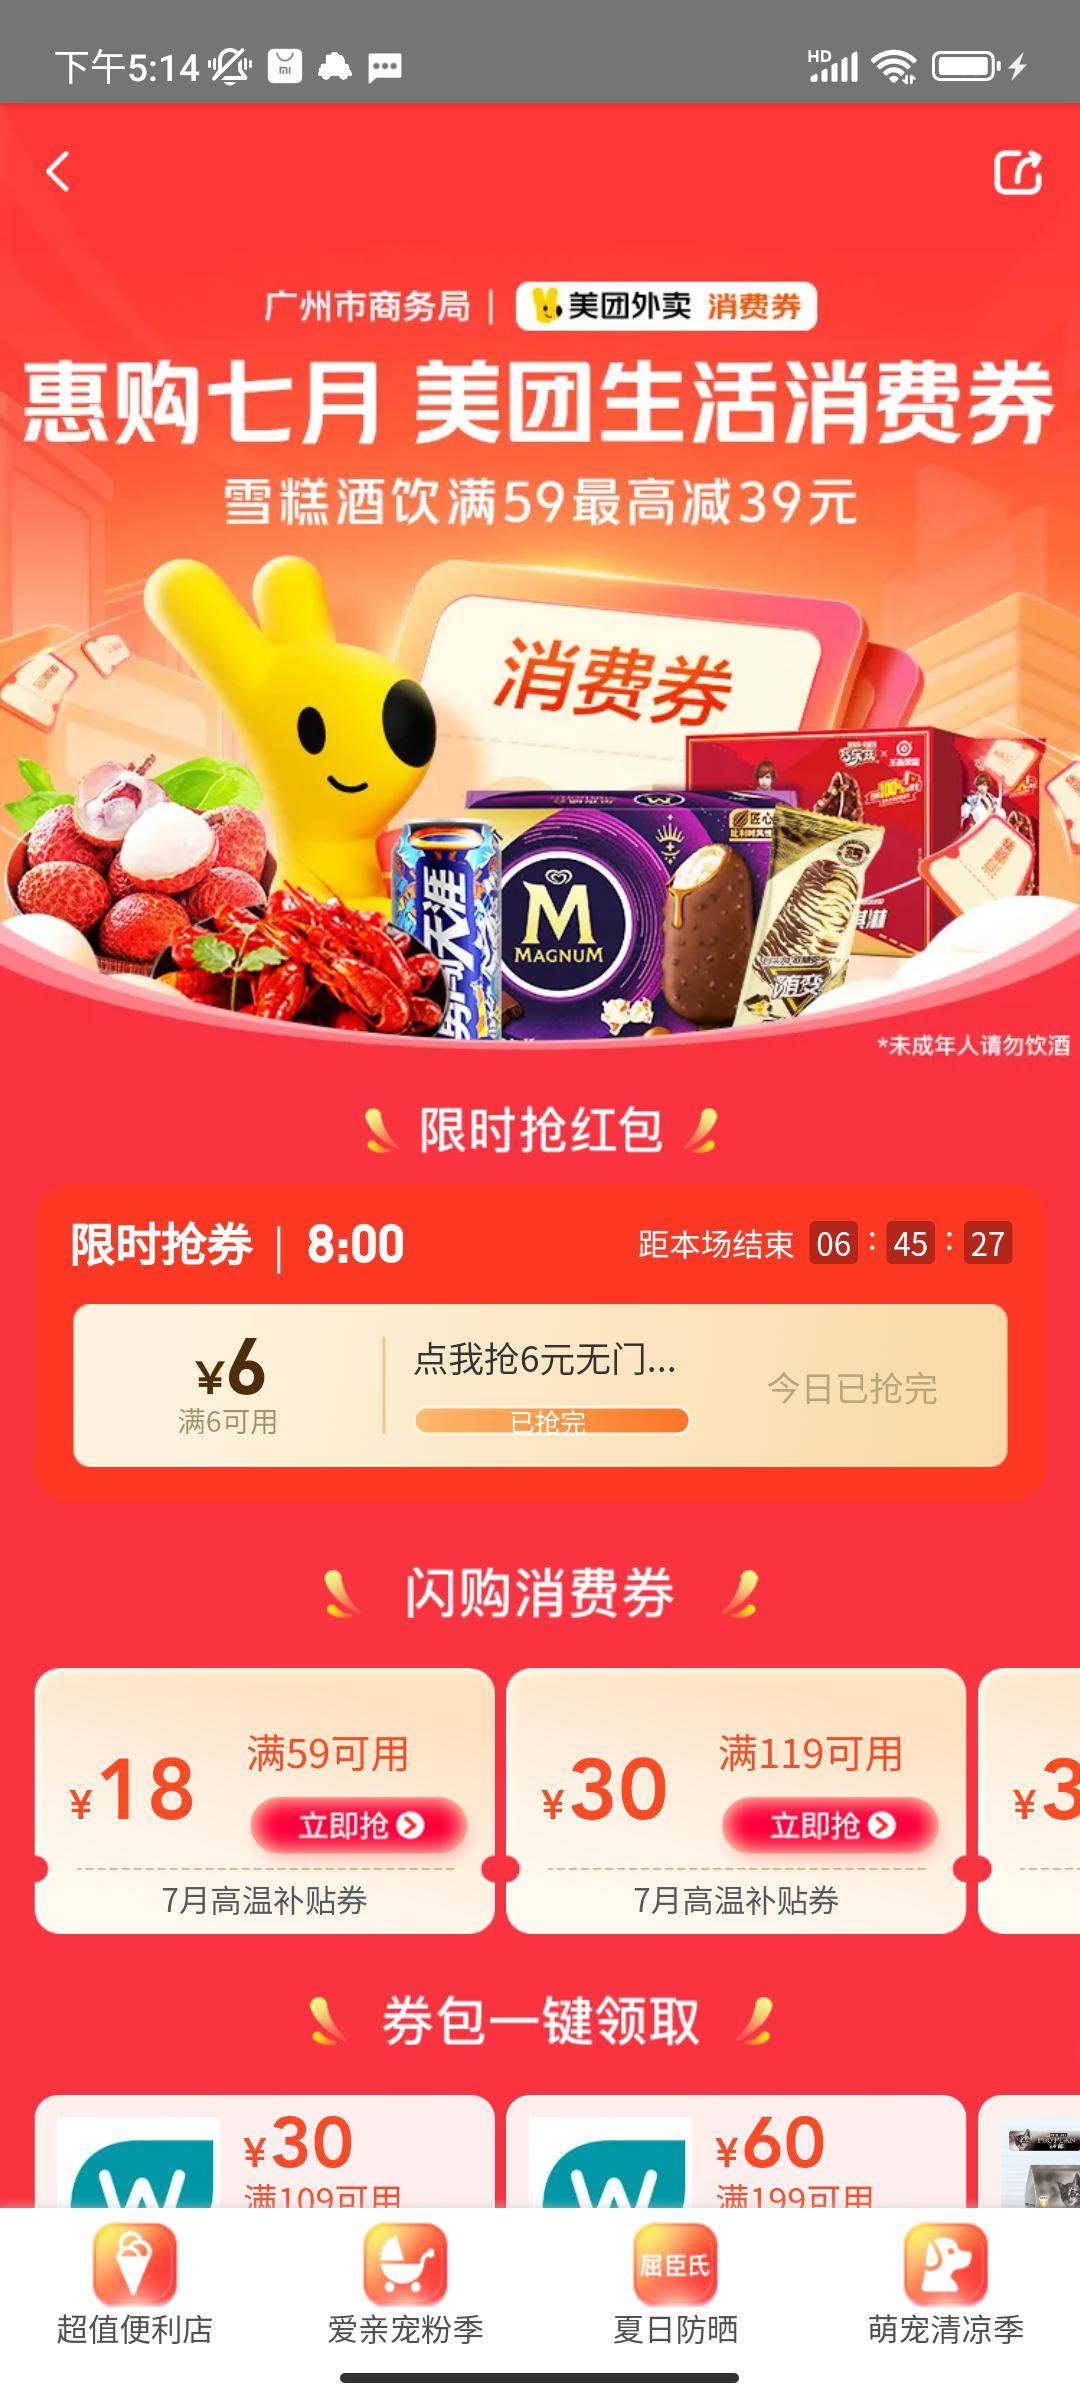ui_group: (64, 1298, 1019, 1476), (34, 1667, 496, 1942), (512, 1667, 967, 1941)
